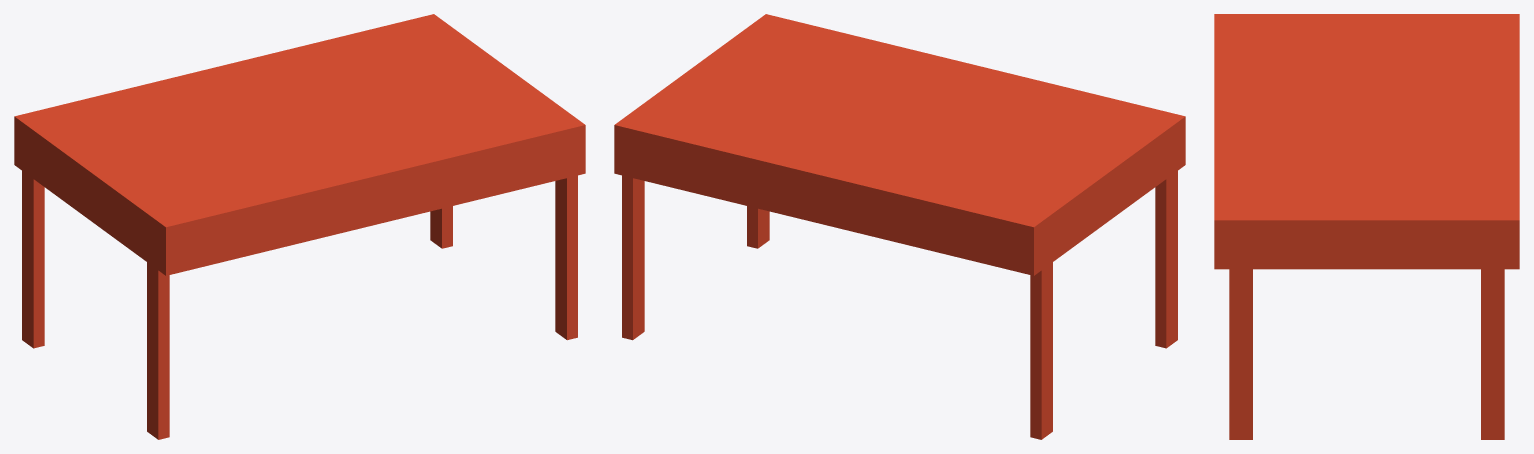
Rendered from tabel.gltf.
The picture shows the model from 3 angles, left to right: view 1: azimuth 30°, elevation 25°; view 2: azimuth 150°, elevation 25°; view 3: azimuth 270°, elevation 25°; orthographic projection.
Parts seen in each view (by area): view 1: Cube.001; view 2: Cube.001; view 3: Cube.001.
Part boxes in pixels (x1,y1,x2,y2): Cube.001: (14, 14, 585, 439); Cube.001: (614, 14, 1185, 439); Cube.001: (1214, 14, 1519, 439).
Size of the model in its own units: 3.23 by 1.61 by 2.02.
